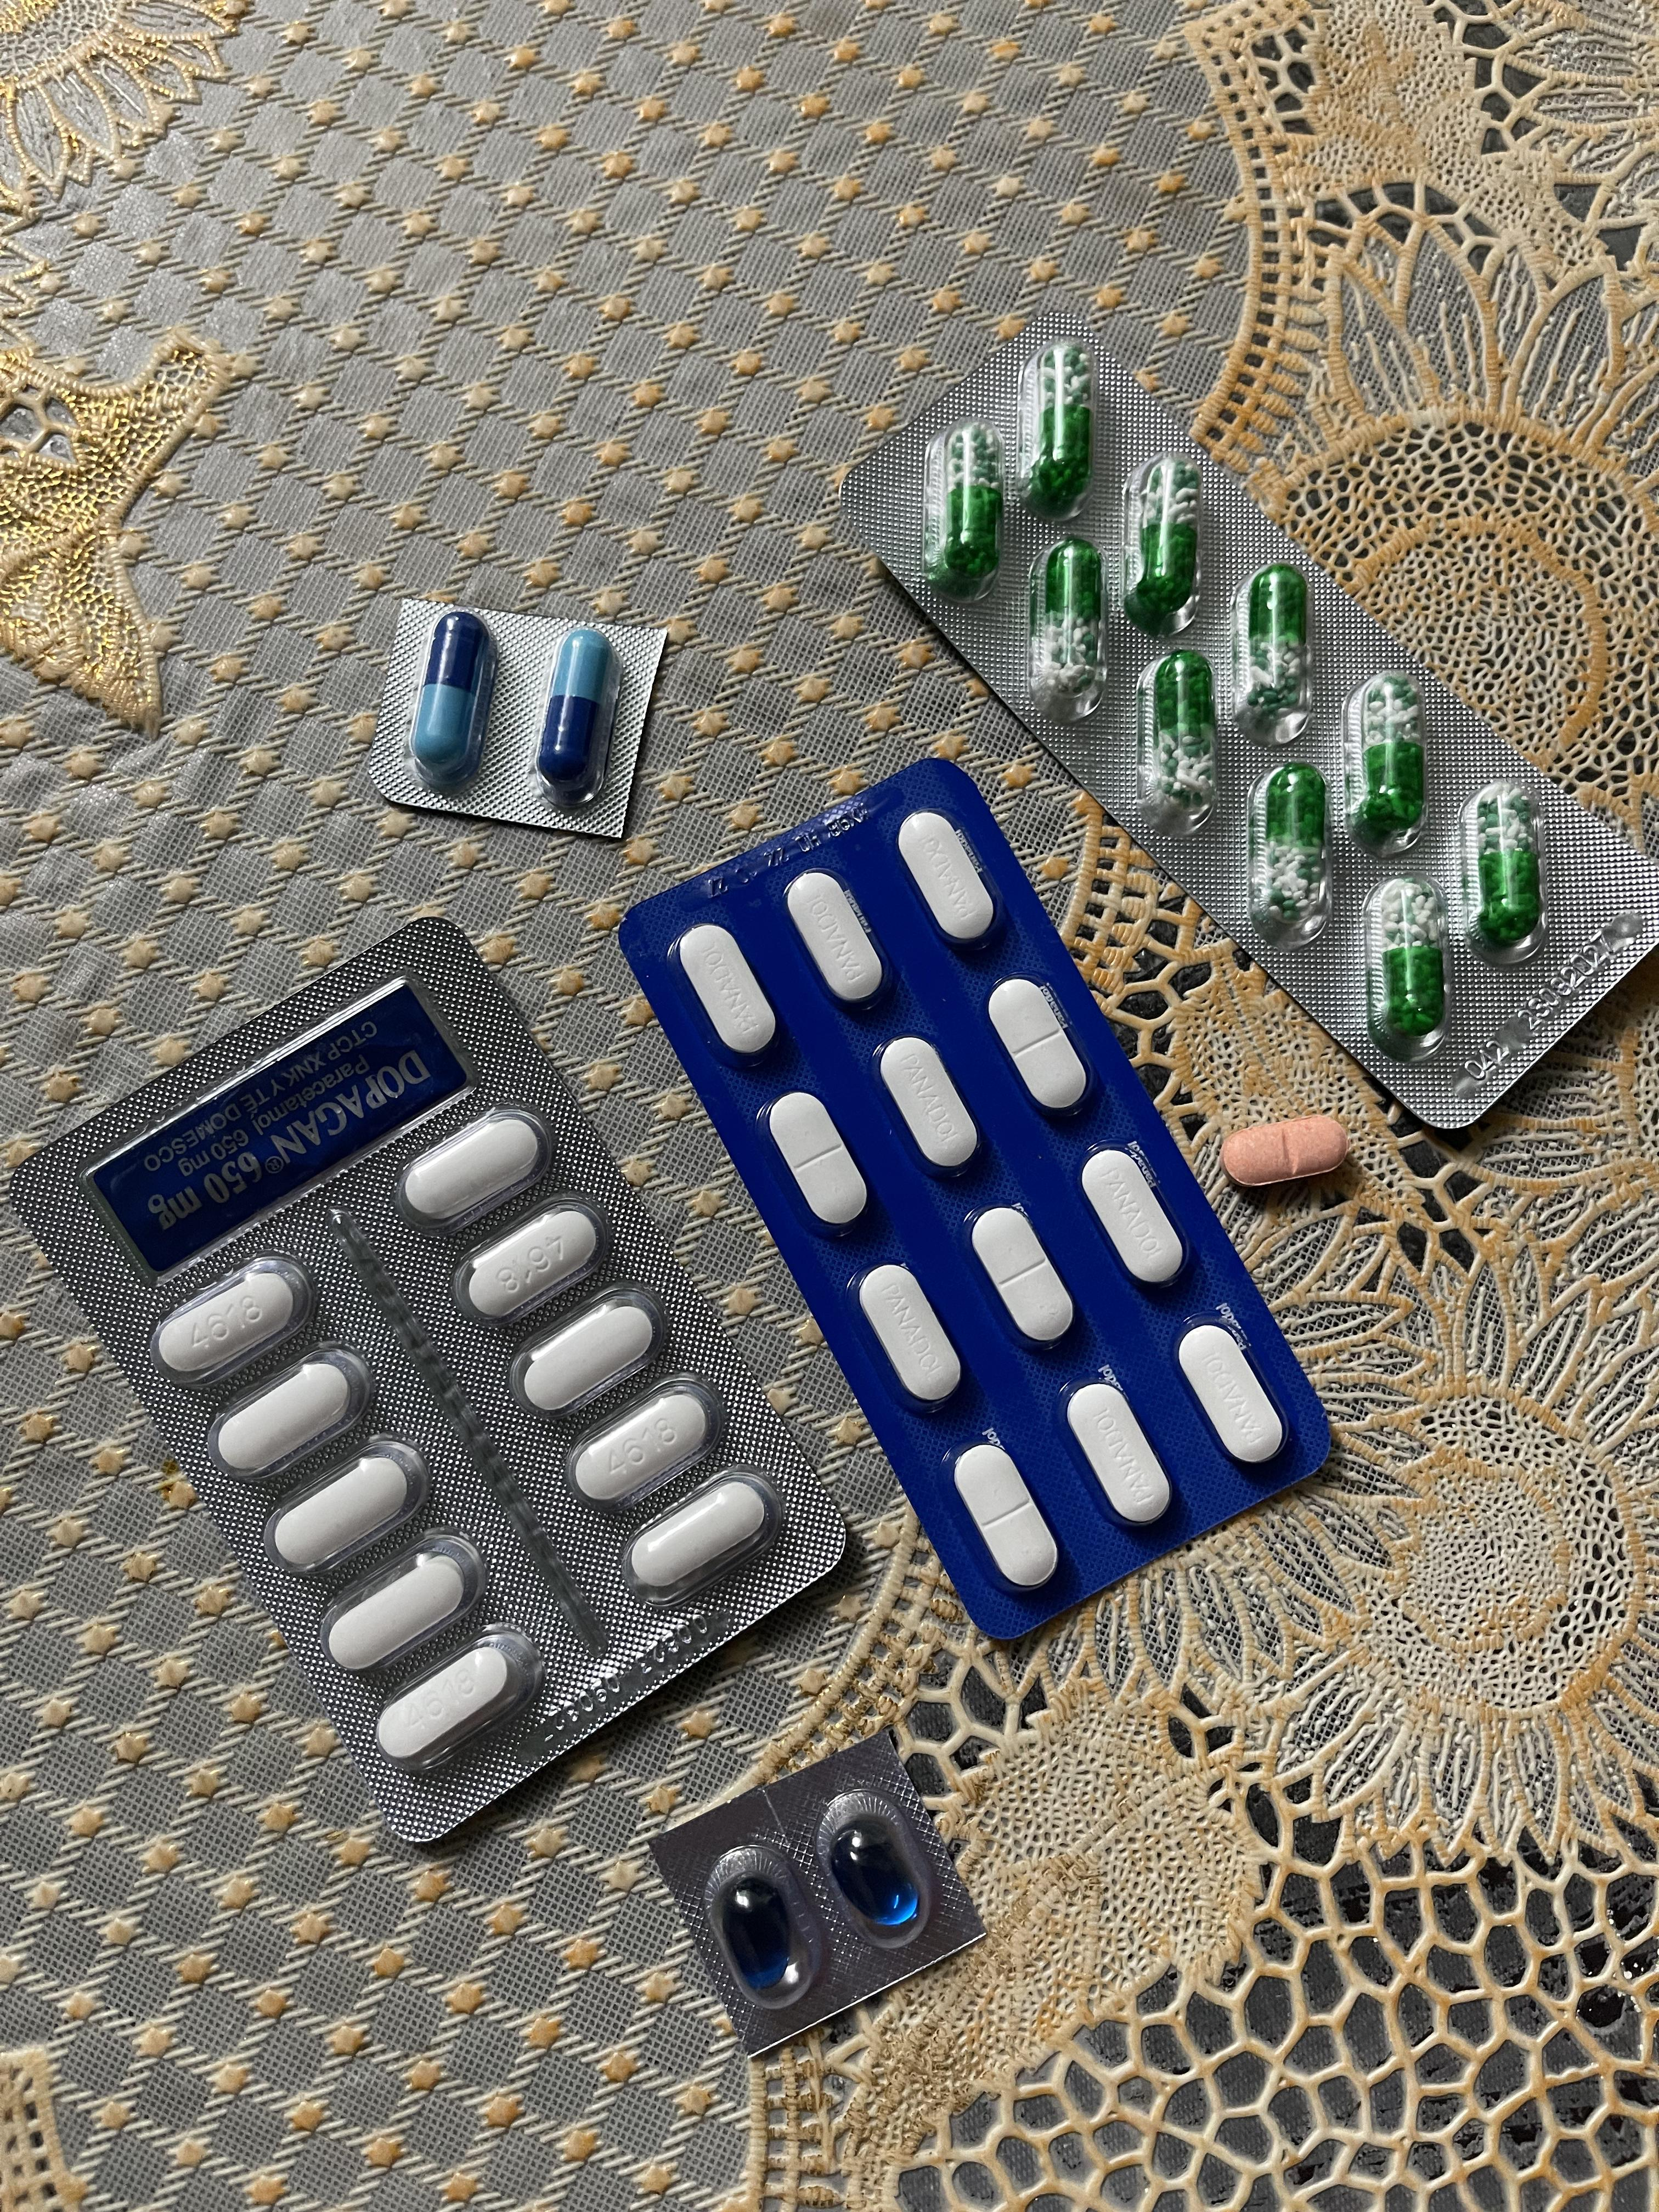Lincomyxin_500mg: (828, 1824, 918, 1930), (718, 1876, 795, 1994)
Loratadine_10mg: (1223, 1115, 1347, 1184)
Paracetamol_350mg: (1065, 1381, 1171, 1527), (1176, 1324, 1283, 1468), (953, 1442, 1058, 1587), (1079, 1148, 1185, 1285), (857, 1263, 960, 1404), (971, 1207, 1073, 1345), (678, 925, 781, 1062), (877, 1036, 978, 1172), (988, 977, 1087, 1111), (897, 810, 997, 939), (789, 876, 885, 1008), (769, 1092, 861, 1226)
Paracetamol_500mg: (260, 1432, 434, 1583), (371, 1622, 542, 1775), (152, 1249, 321, 1386), (511, 1287, 669, 1423), (566, 1381, 725, 1515), (622, 1472, 774, 1606), (453, 1193, 606, 1324), (394, 1104, 545, 1226), (329, 1554, 471, 1672), (216, 1362, 356, 1468)
Paracetamol_650mg: (1363, 878, 1450, 1061), (1462, 784, 1546, 960), (1124, 456, 1204, 639), (1026, 542, 1105, 719), (1344, 669, 1424, 838), (1251, 766, 1328, 939), (1021, 347, 1094, 517), (931, 427, 1002, 594), (1147, 651, 1213, 824), (1248, 566, 1309, 728), (1394, 887, 1441, 937)
pill: (410, 613, 493, 789), (535, 629, 617, 805)
